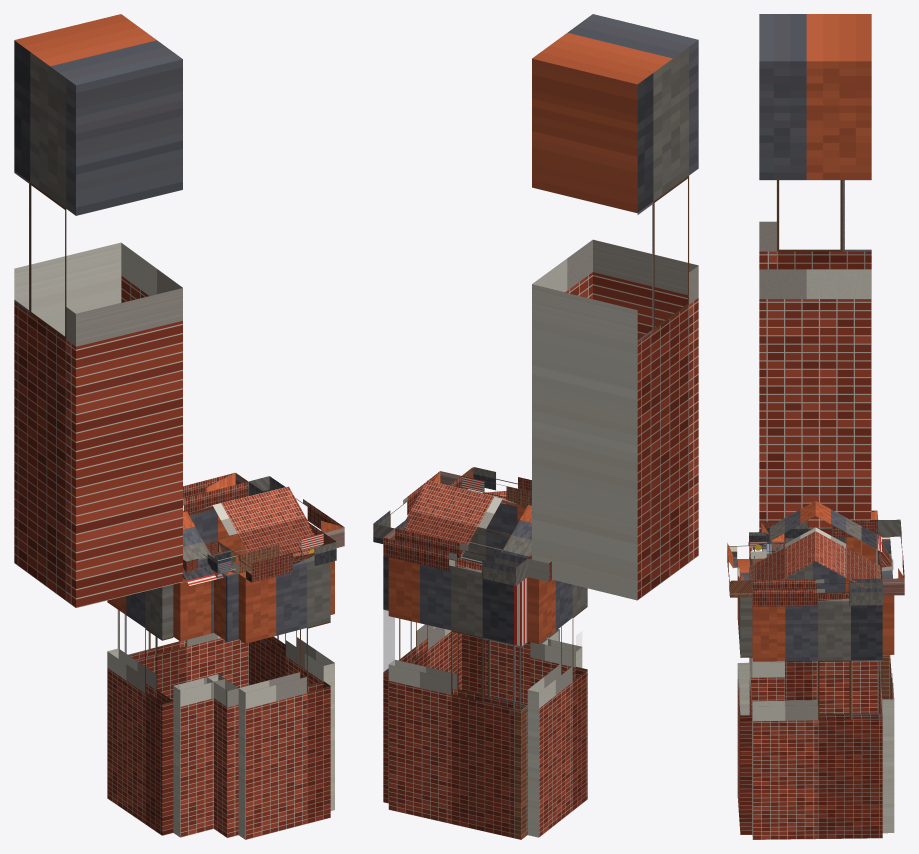
The picture shows the model from 3 angles, left to right: view 1: azimuth 30°, elevation 25°; view 2: azimuth 150°, elevation 25°; view 3: azimuth 270°, elevation 25°; orthographic projection. The views are drawn at different scales.
Visible parts, largest first — view 1: 1106965495__chimney_0_xb, 1106965495__wall_2_xb, 1106965495__wall_5_xb, 1106965495__wall_4_xb, 1106965495__wall_0_xb, 1106965495_roof_-1_xb, 1106965495__wall_3_xb, 1106965495__wall_1_xb, 1106965495__cornice_2, 1106965495__cornice_0, 1106965495__cornice_1, 1106965495__cornice_3; view 2: 1106965495__chimney_0_xb, 1106965495__wall_0_xb, 1106965495__wall_5_xb, 1106965495__wall_2_xb, 1106965495_roof_1_xb, 1106965495__wall_1_xb, 1106965495__cornice_0, 1106965495__wall_4_xb, 1106965495__cornice_2, 1106965495__cornice_1; view 3: 1106965495__chimney_0_xb, 1106965495__wall_1_xb, 1106965495__wall_5_xb, 1106965495__wall_2_xb, 1106965495__wall_0_xb, 1106965495__cornice_1, 1106965495_roof_1_xb, 1106965495_roof_-1_xb, 1106965495__wall_3_xb, 1106965495__cornice_0, 1106965495__cornice_2, 1106965495__cornice_5 (+2 smaller).
Boxes of the visible parts, bbox=[...] form: 1106965495__chimney_0_xb: bbox=[14, 14, 182, 607]; 1106965495__wall_2_xb: bbox=[238, 556, 330, 839]; 1106965495__wall_5_xb: bbox=[107, 584, 173, 835]; 1106965495__wall_4_xb: bbox=[173, 578, 224, 837]; 1106965495__wall_0_xb: bbox=[118, 509, 248, 700]; 1106965495_roof_-1_xb: bbox=[183, 486, 321, 585]; 1106965495__wall_3_xb: bbox=[207, 570, 238, 837]; 1106965495__wall_1_xb: bbox=[248, 561, 334, 810]; 1106965495__cornice_2: bbox=[238, 533, 336, 582]; 1106965495__cornice_0: bbox=[183, 472, 248, 515]; 1106965495__cornice_1: bbox=[248, 476, 344, 547]; 1106965495__cornice_3: bbox=[203, 541, 238, 579]; 1106965495__chimney_0_xb: bbox=[532, 14, 698, 600]; 1106965495__wall_0_xb: bbox=[388, 557, 527, 839]; 1106965495__wall_5_xb: bbox=[527, 577, 587, 837]; 1106965495__wall_2_xb: bbox=[461, 489, 530, 704]; 1106965495_roof_1_xb: bbox=[404, 480, 531, 562]; 1106965495__wall_1_xb: bbox=[383, 556, 461, 803]; 1106965495__cornice_0: bbox=[383, 528, 527, 585]; 1106965495__wall_4_xb: bbox=[530, 638, 582, 687]; 1106965495__cornice_2: bbox=[461, 467, 531, 508]; 1106965495__cornice_1: bbox=[373, 471, 461, 543]; 1106965495__chimney_0_xb: bbox=[759, 14, 871, 535]; 1106965495__wall_1_xb: bbox=[752, 598, 882, 839]; 1106965495__wall_5_xb: bbox=[785, 537, 878, 714]; 1106965495__wall_2_xb: bbox=[737, 559, 752, 834]; 1106965495__wall_0_xb: bbox=[878, 537, 894, 833]; 1106965495__cornice_1: bbox=[752, 578, 882, 606]; 1106965495_roof_1_xb: bbox=[815, 501, 881, 588]; 1106965495_roof_-1_xb: bbox=[749, 501, 815, 587]; 1106965495__wall_3_xb: bbox=[749, 553, 784, 711]; 1106965495__cornice_0: bbox=[878, 519, 904, 595]; 1106965495__cornice_2: bbox=[727, 542, 752, 597]; 1106965495__cornice_5: bbox=[785, 510, 878, 538].
Size of the model in its own units: 0.3717 by 1.05 by 0.237.
1 material, 1 textured.
